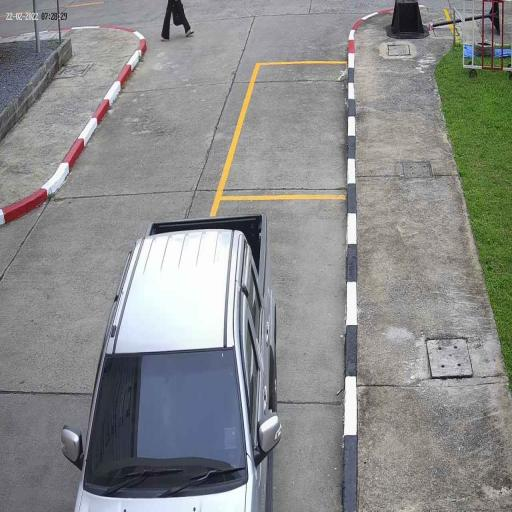car: (75, 212, 278, 511)
